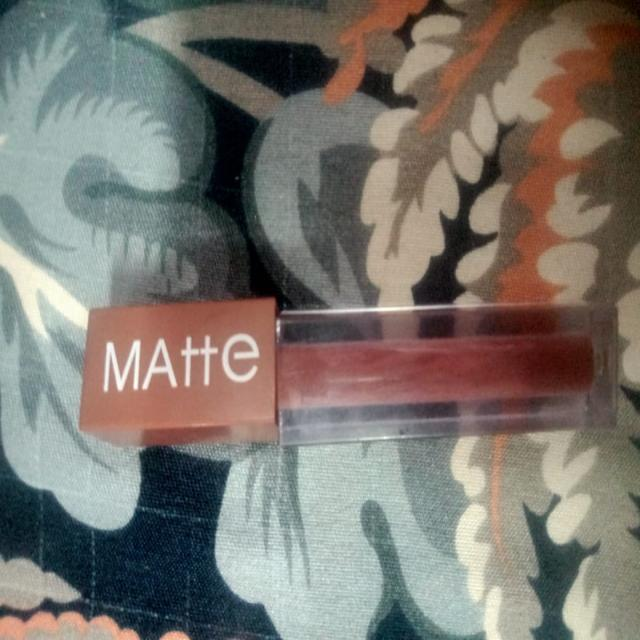lip shade: (81, 304, 629, 451)
